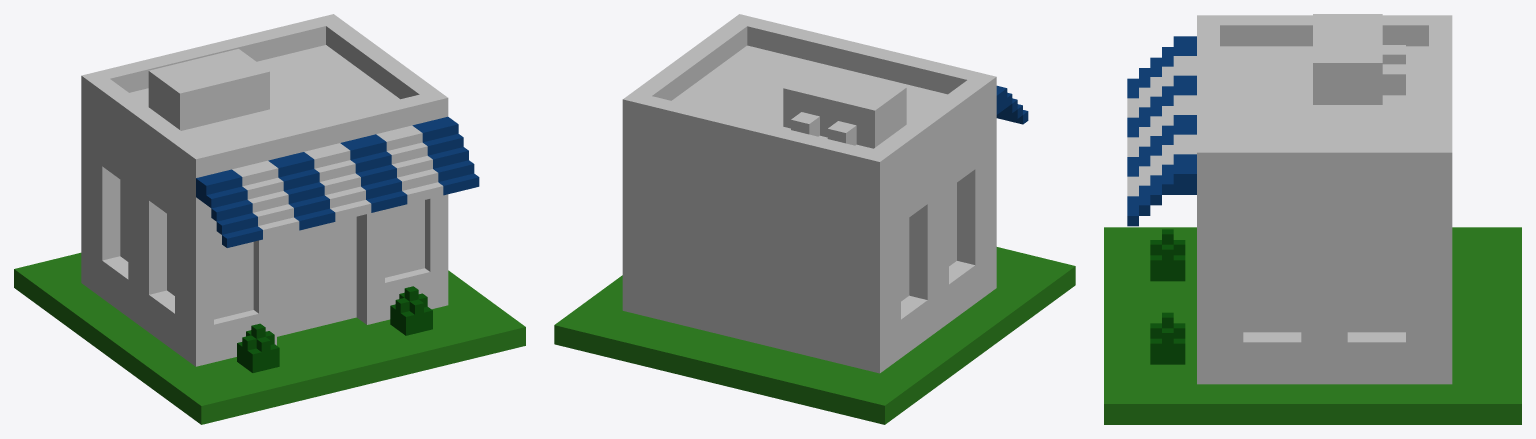
3 renders of one model, left to right at view 1: azimuth 30°, elevation 25°; view 2: azimuth 150°, elevation 25°; view 3: azimuth 270°, elevation 25°, orthographic. The views are drawn at different scales.
Parts seen in each view (by area): view 1: store_10; view 2: store_10; view 3: store_10.
Part boxes in pixels (x1,y1,x2,y2): store_10: (14,14,525,424); store_10: (554,14,1075,424); store_10: (1104,14,1521,424).
Size of the model in its own units: 4.5 by 3.25 by 4.5.
